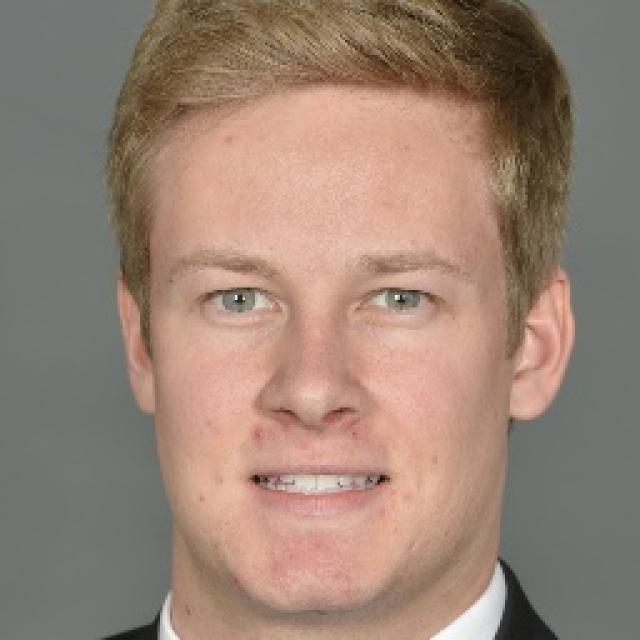earlobe: (509, 369, 545, 422), (128, 372, 158, 418)
eye: (202, 288, 283, 316), (360, 286, 436, 314)
nose: (263, 403, 361, 456)
wholeear: (509, 266, 574, 422), (116, 272, 158, 418)
